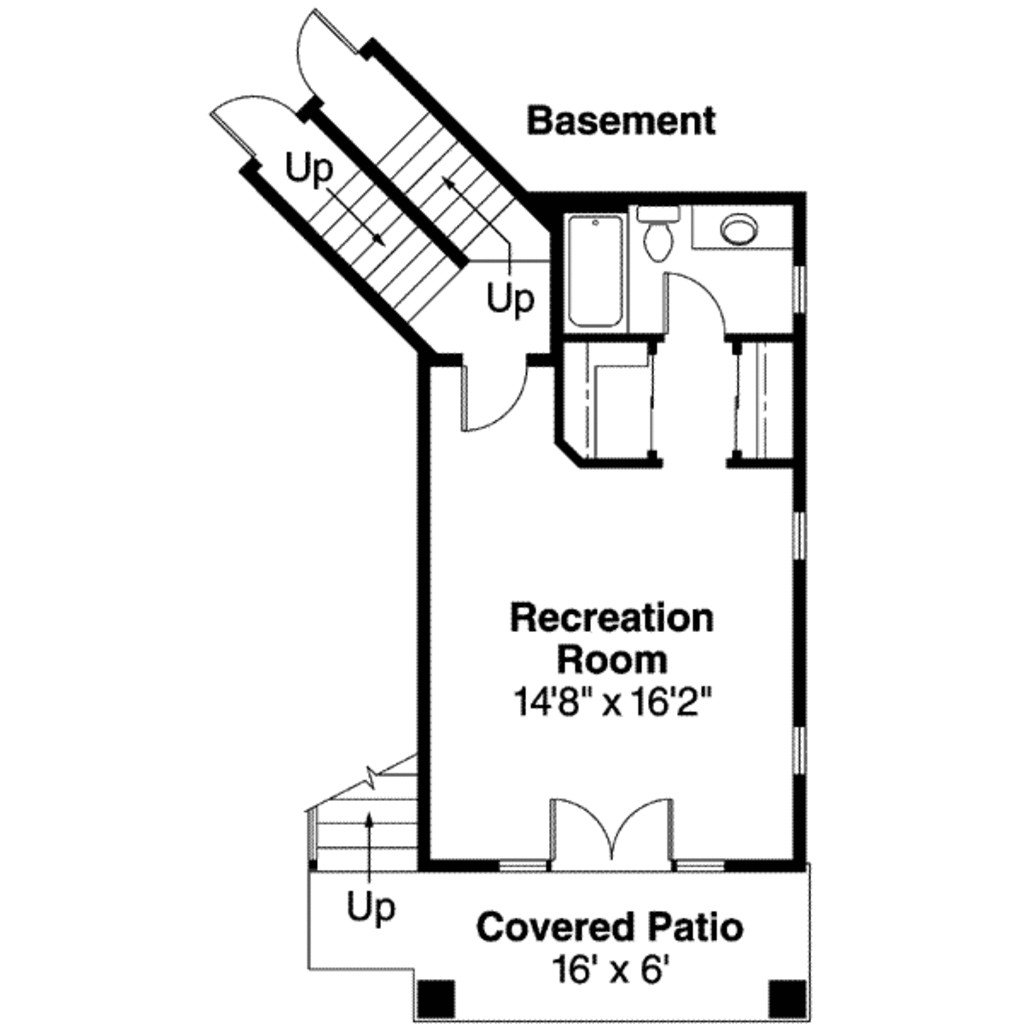door: (544, 796, 684, 872), (206, 60, 297, 175), (267, 7, 377, 97), (448, 355, 530, 436), (661, 272, 734, 333)
large_sink: (638, 203, 683, 263)
small_sink: (685, 199, 807, 251)
stairs: (294, 107, 544, 354), (296, 745, 425, 867)
tub: (564, 207, 636, 335)
window: (789, 260, 814, 321), (664, 850, 720, 875), (792, 491, 811, 564), (495, 857, 561, 875), (794, 727, 813, 780)
